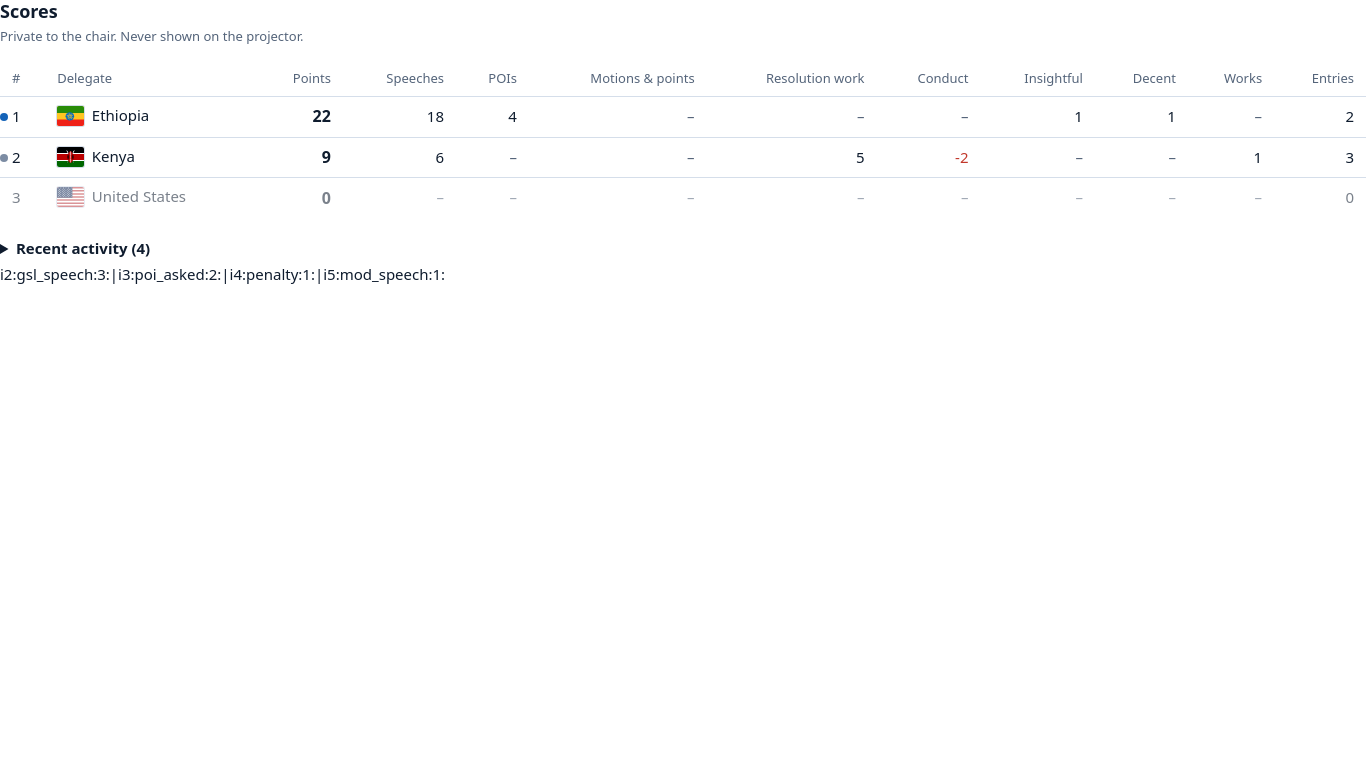
Test: LeaderboardPanel › saves a note on blur
Click the button with aria-label "Show log for Ethiopia" at [103, 117], box [57,105,149,129]
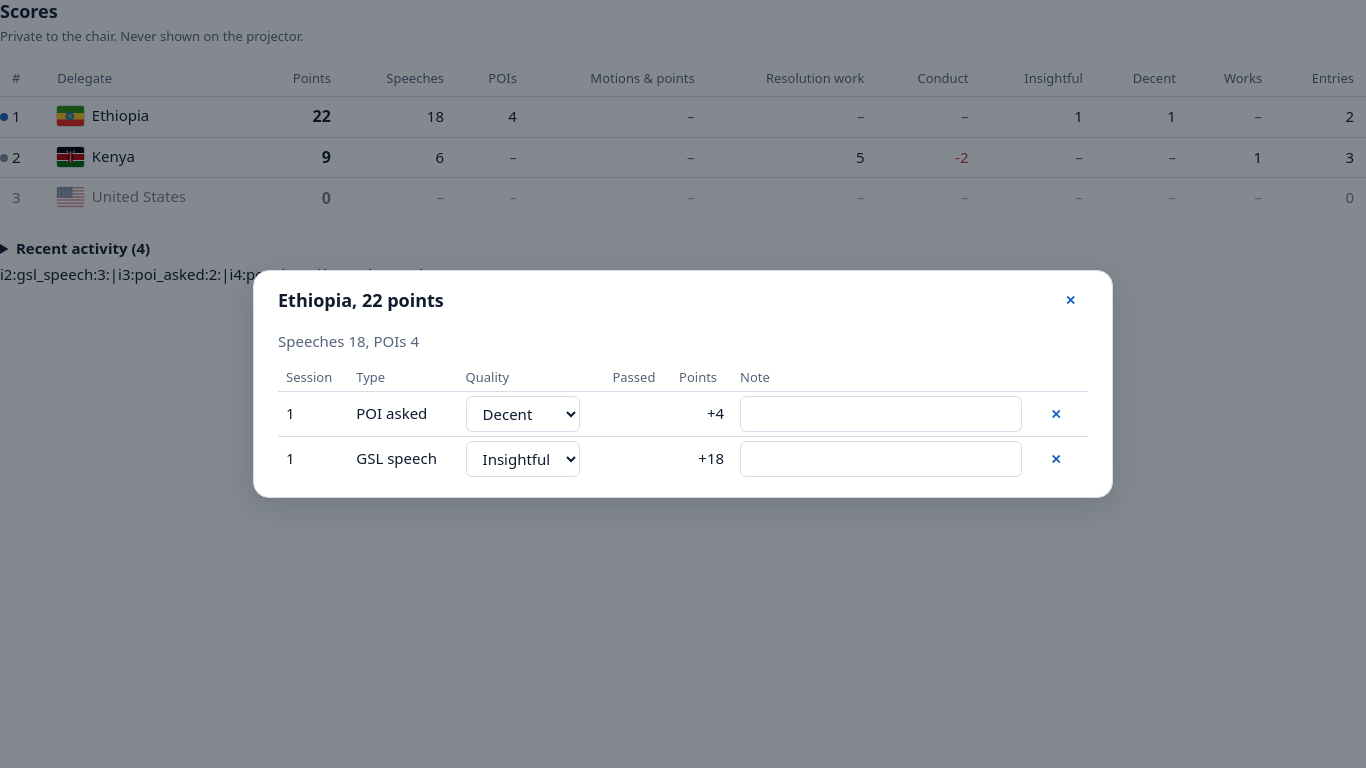
Type "good point" into the field named "Note" in the row of "POI asked" at [881, 414], box [740,396,1022,432]
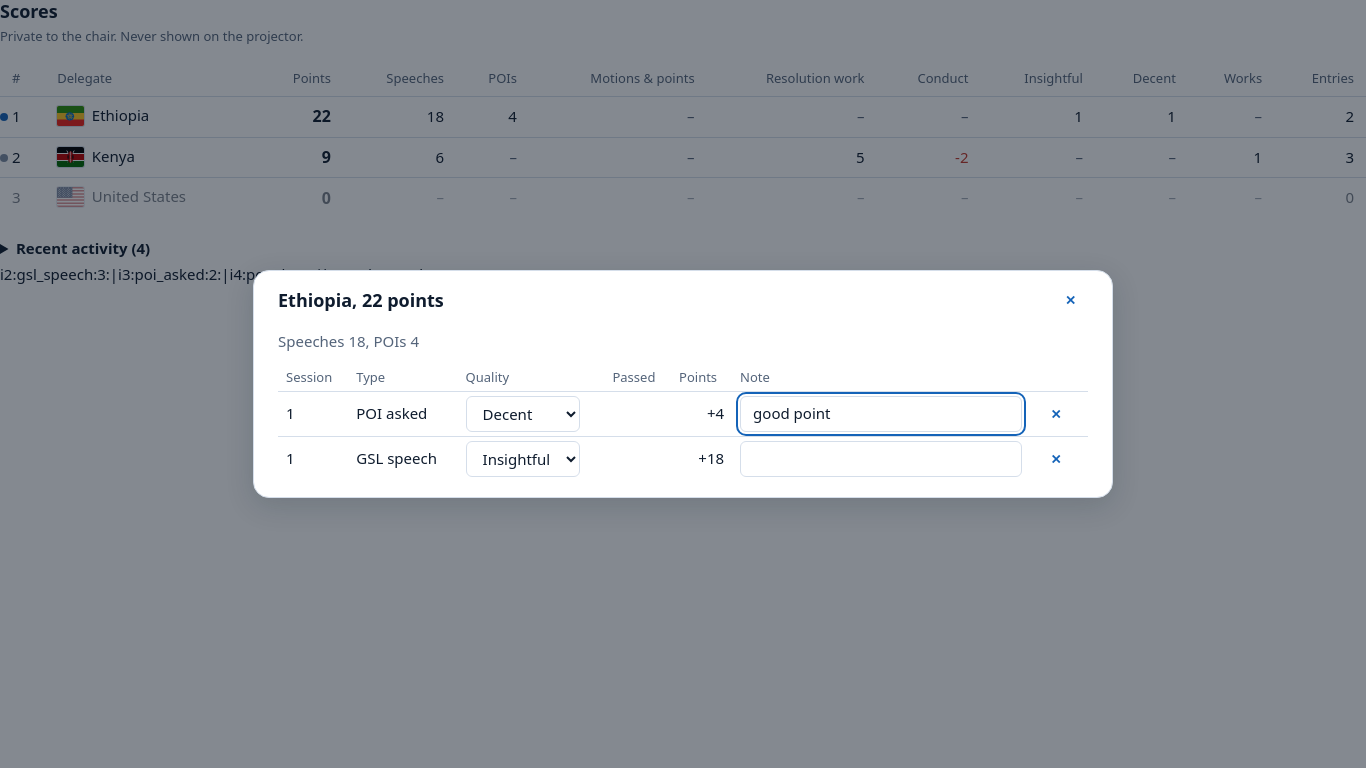
Press Tab
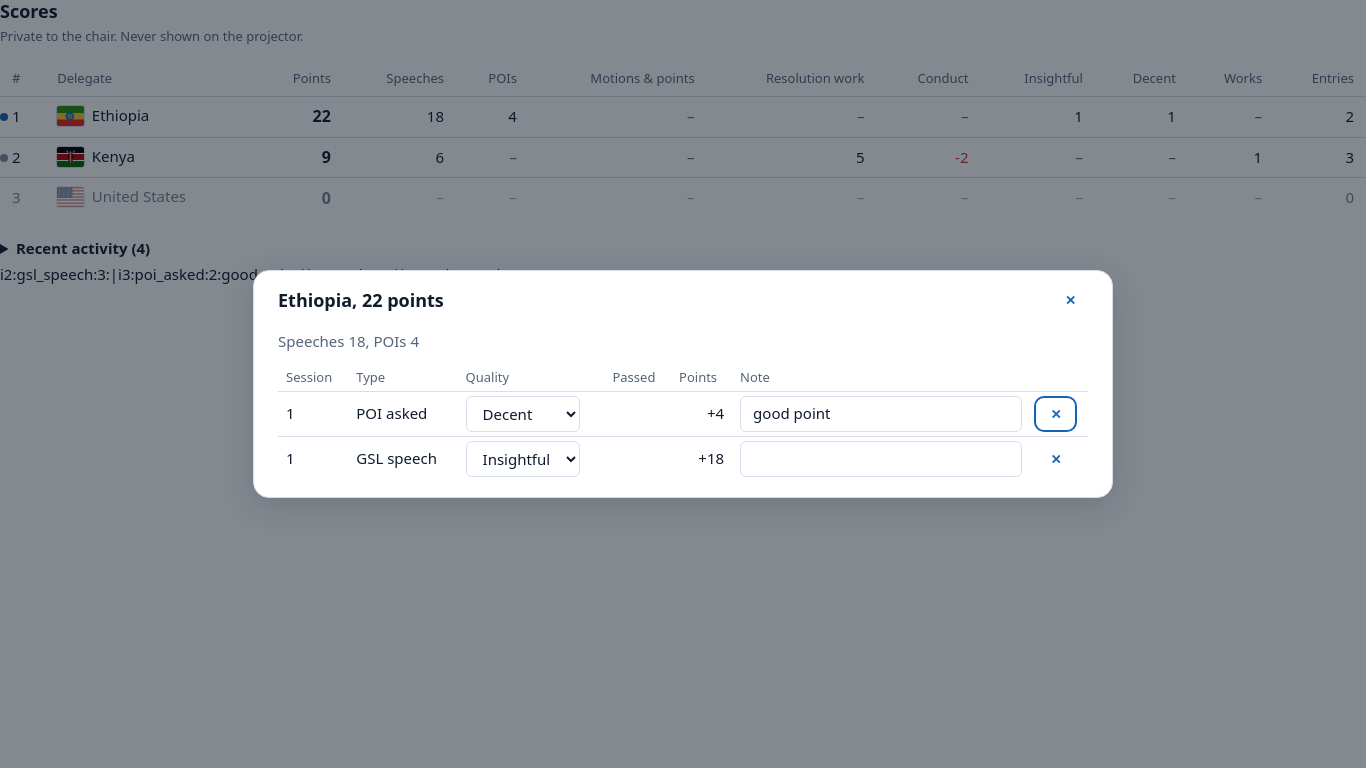
Check: the text with test id "probe" shows "good point", box [0,264,522,284]
